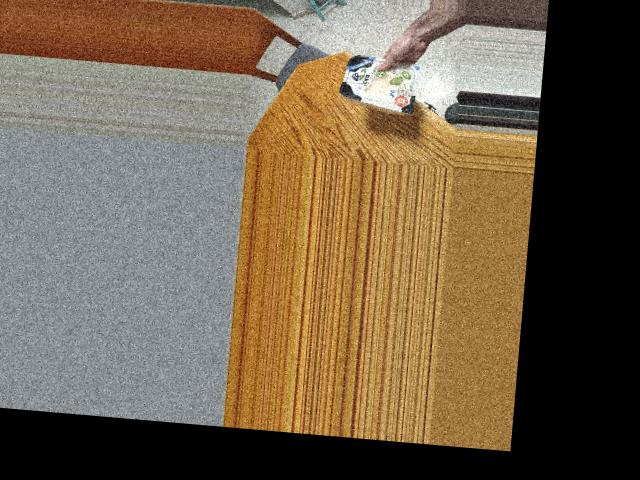cheese: (343, 44, 410, 111)
